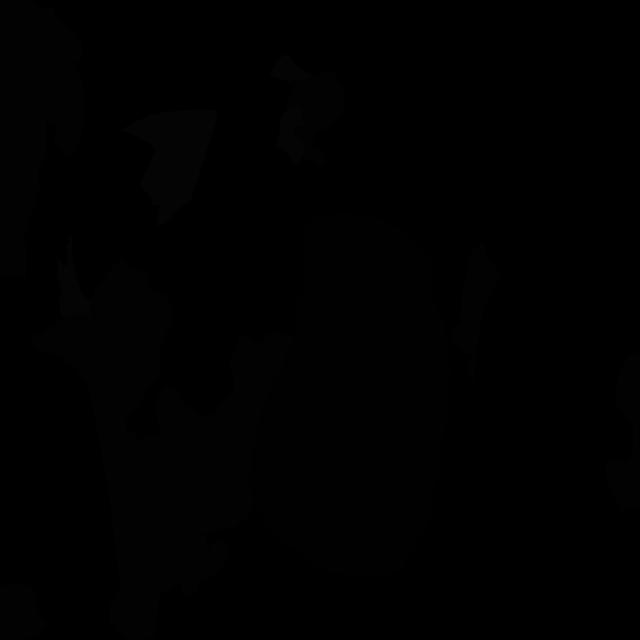cardboard: (31, 259, 228, 640), (154, 333, 295, 540), (0, 0, 85, 159), (0, 98, 48, 279), (450, 243, 501, 384), (604, 352, 640, 513), (284, 70, 344, 166), (0, 584, 46, 640)
rigid_plastic: (250, 212, 451, 578)
soft_plastic: (119, 109, 218, 227), (57, 236, 91, 319), (276, 106, 304, 164), (270, 54, 313, 82)
